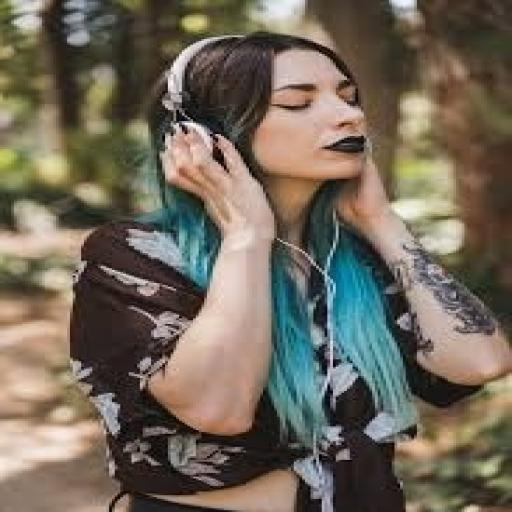listening_to_music: (67, 30, 509, 510)
